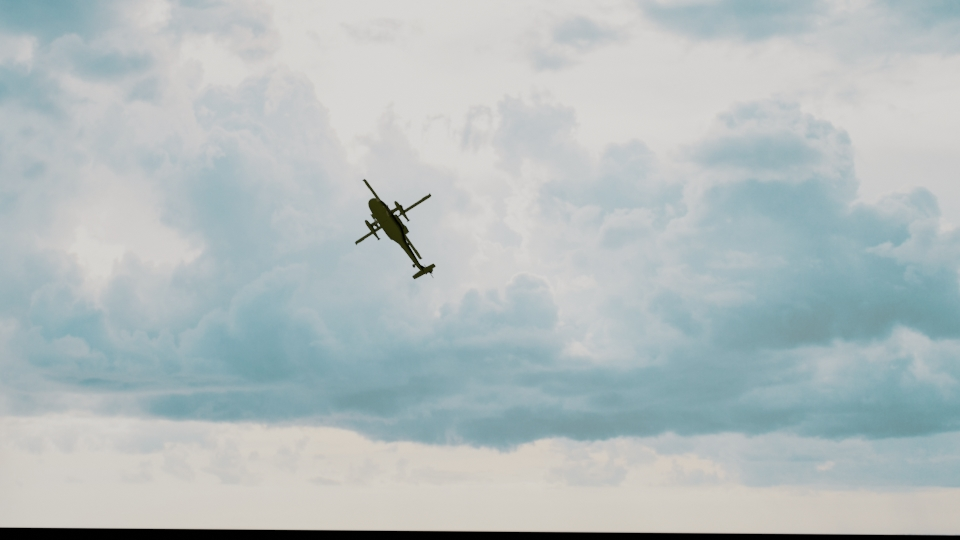heli: (354, 180, 435, 281)
